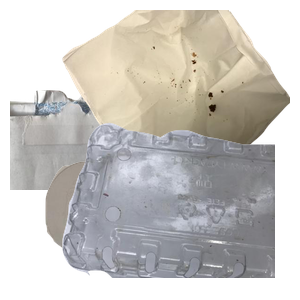glass: (43, 159, 187, 300)
paper: (10, 84, 250, 264)
plastic: (60, 120, 300, 300)
trash: (60, 10, 300, 190)
